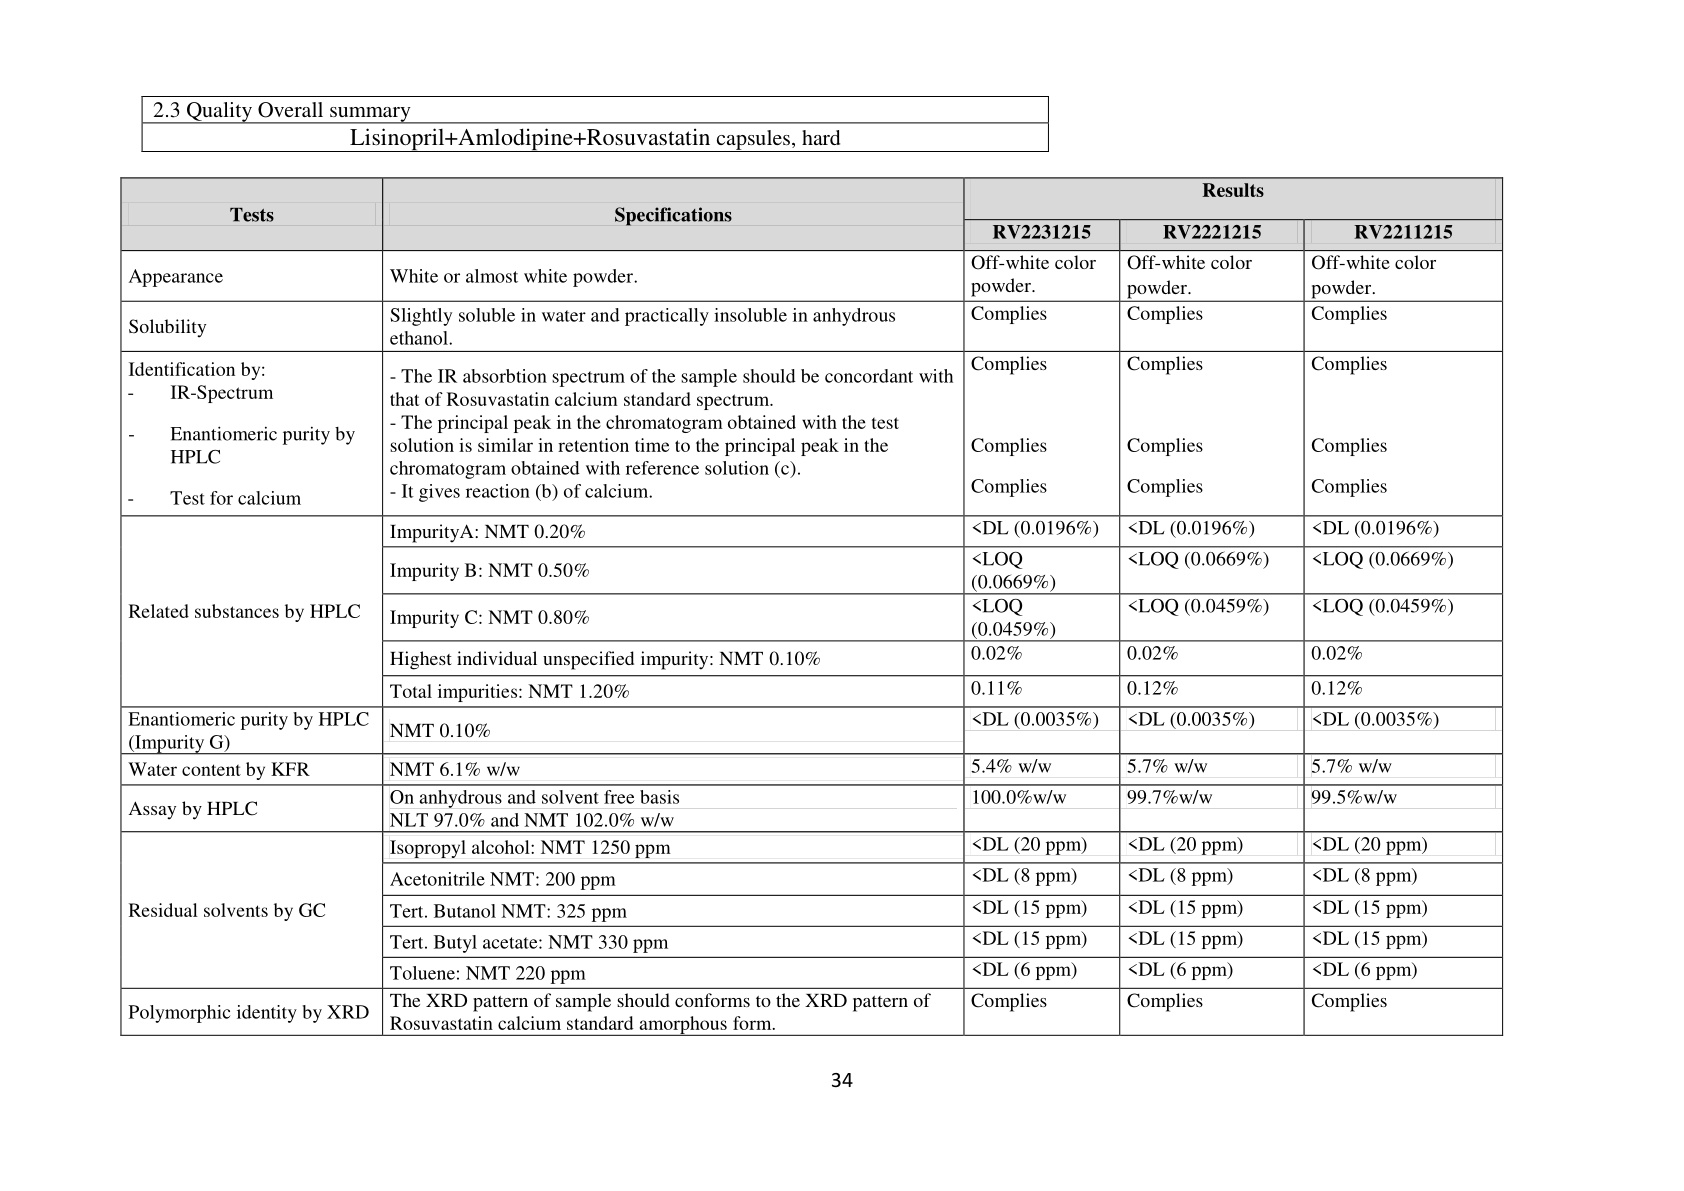full_lined: (140, 95, 1050, 152)
merged_cells: (119, 177, 1504, 1036)
